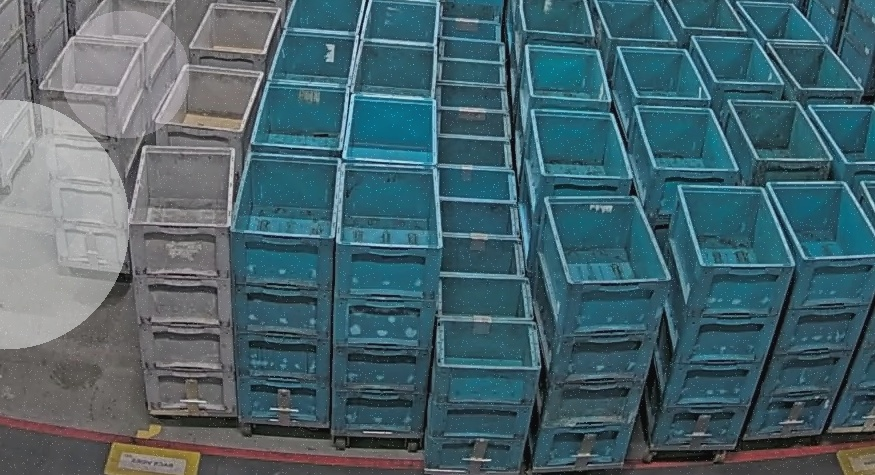4G: (126, 143, 236, 416), (39, 36, 147, 276)
B4: (642, 183, 797, 451), (529, 190, 669, 470), (744, 180, 875, 437), (232, 152, 343, 426), (332, 161, 443, 434)
B8: (422, 270, 541, 471)
